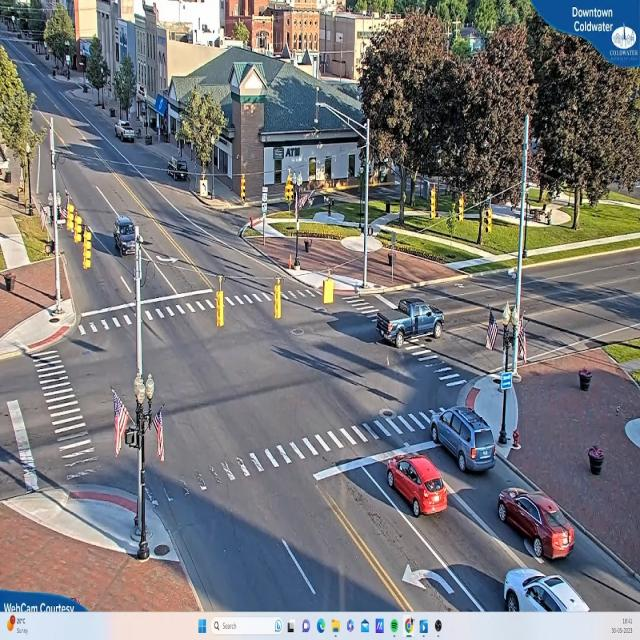car: (499, 491, 578, 565), (430, 408, 497, 473), (503, 570, 605, 612), (387, 455, 449, 520), (374, 294, 440, 346), (114, 216, 138, 255), (165, 158, 189, 180), (115, 123, 136, 143)
